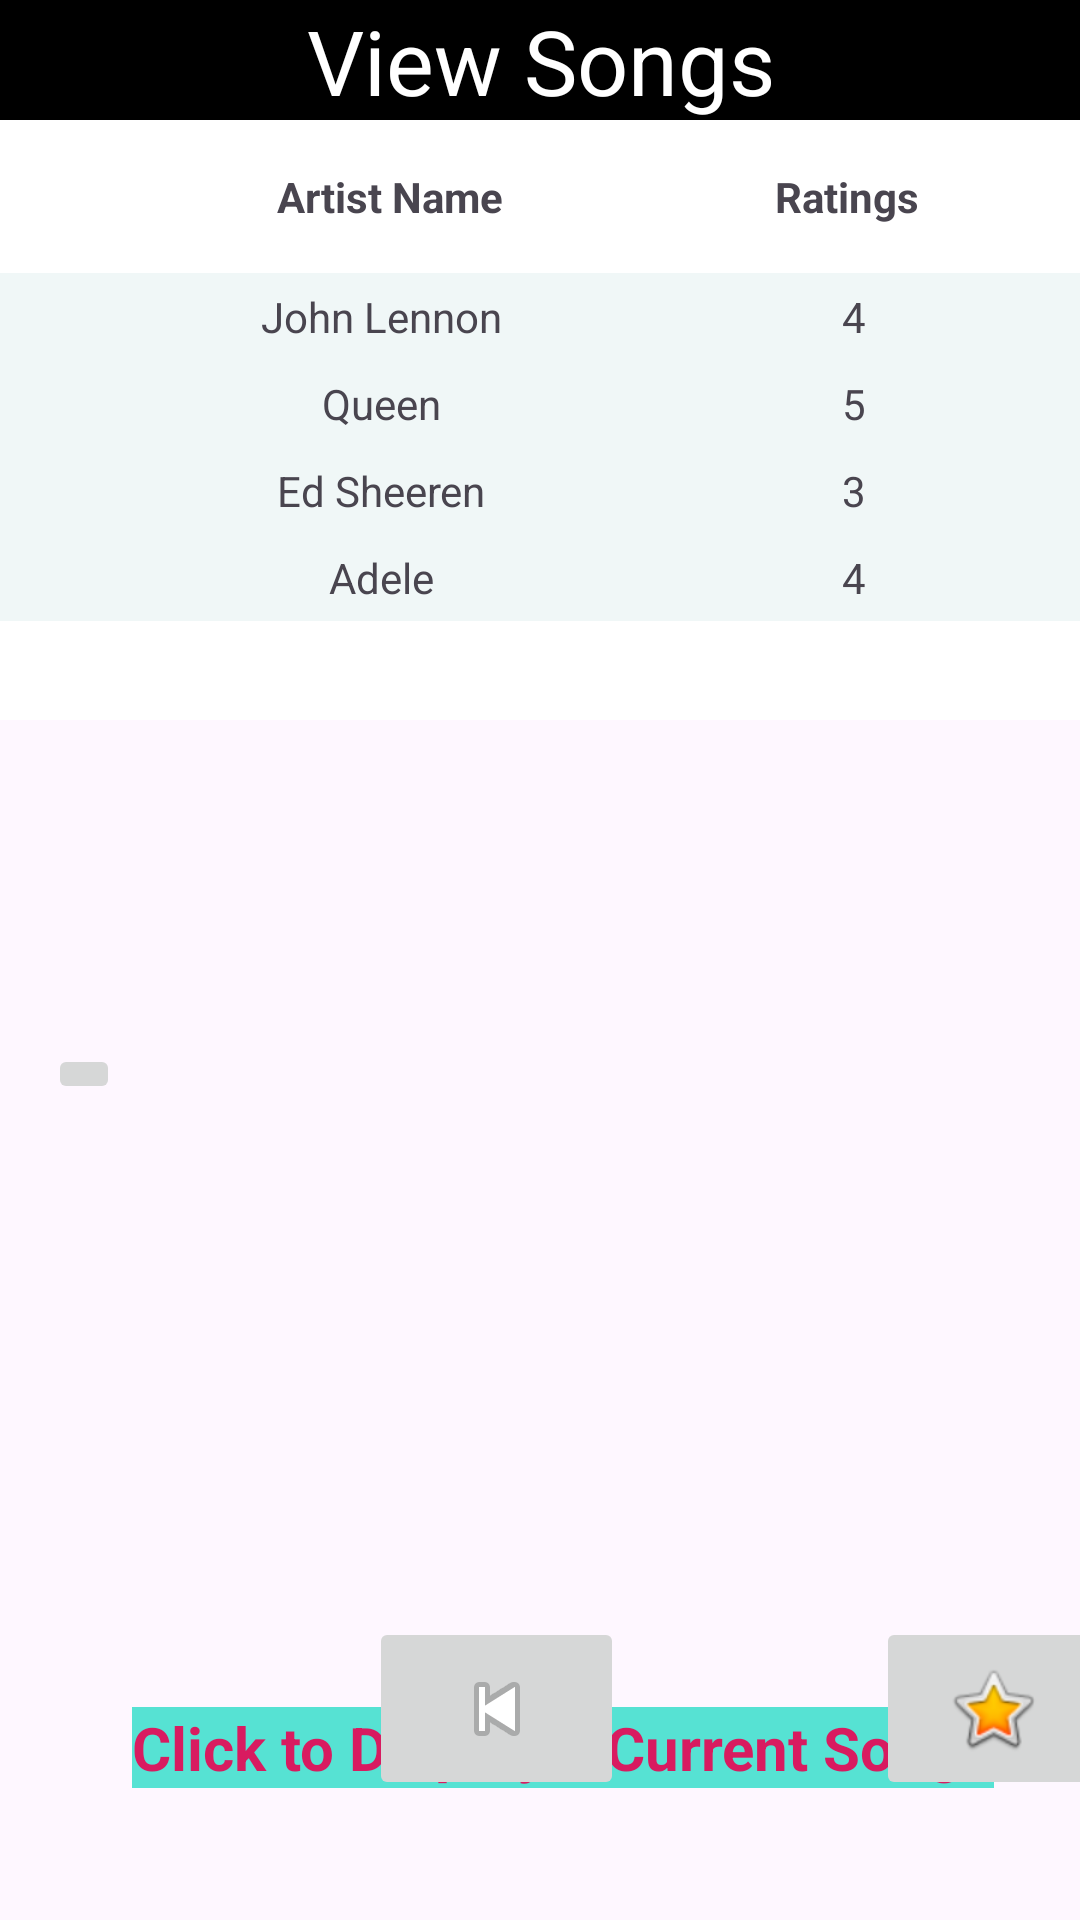

Icon bounding boxes for this 1080*1920 phone screenshot, format (x1, y1, x2, y2):
previous: (369, 1635, 624, 1788)
